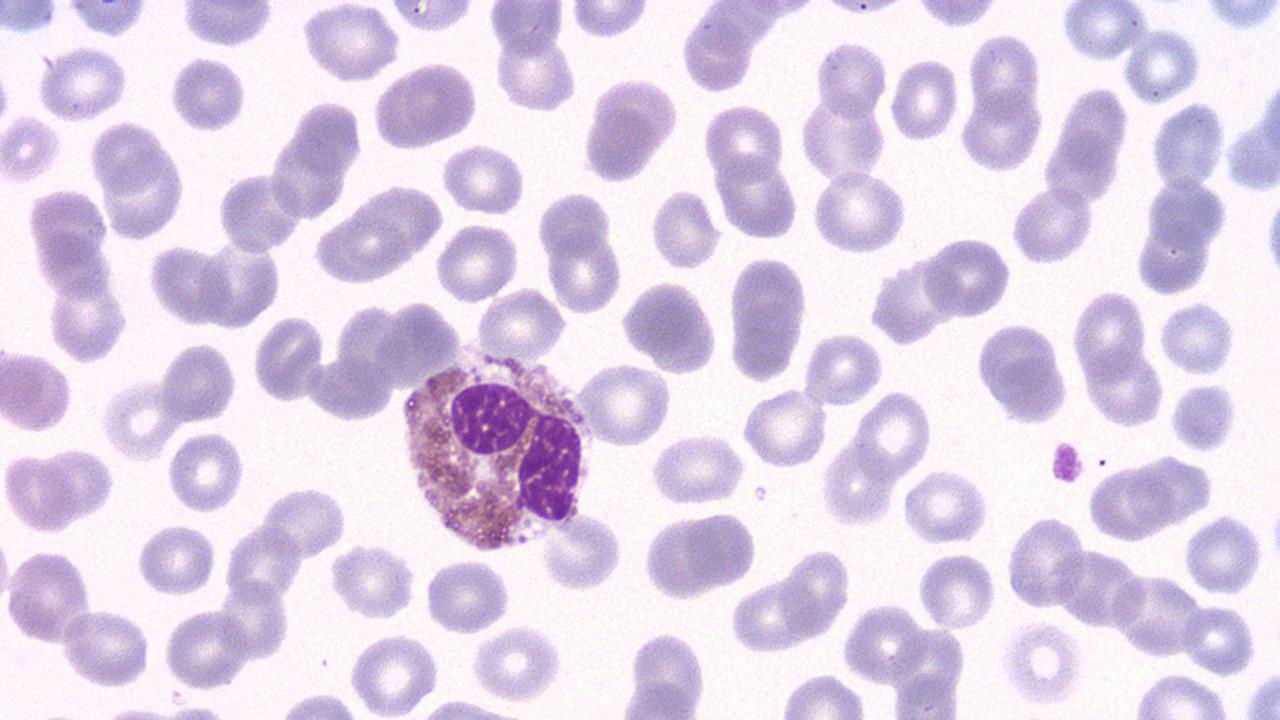Platelets: (1047, 437, 1085, 490)
RBC: (726, 254, 811, 384), (581, 73, 680, 184), (972, 321, 1072, 427), (974, 320, 1071, 428), (620, 274, 722, 375), (370, 62, 480, 152), (620, 274, 720, 371), (98, 141, 186, 242), (808, 169, 910, 256), (3, 548, 93, 646), (574, 360, 674, 448), (798, 91, 888, 187), (1005, 512, 1087, 613), (1110, 570, 1202, 660), (346, 630, 440, 716), (300, 3, 401, 83), (1000, 616, 1086, 709), (470, 622, 565, 706), (1057, 544, 1145, 632), (160, 605, 250, 691), (921, 235, 1013, 319), (728, 574, 822, 656), (854, 388, 934, 484), (202, 236, 283, 330), (1084, 463, 1178, 544), (58, 606, 152, 687), (1070, 287, 1150, 382), (1149, 97, 1227, 194), (46, 274, 129, 365), (648, 432, 749, 506), (148, 240, 231, 330), (34, 44, 129, 122), (216, 168, 302, 254), (700, 98, 786, 184), (641, 512, 721, 604), (492, 29, 577, 115), (1181, 511, 1265, 598), (738, 387, 826, 470), (1009, 183, 1095, 267), (433, 221, 520, 304), (327, 541, 416, 622), (819, 438, 897, 530), (900, 468, 992, 546), (714, 156, 798, 241), (956, 90, 1041, 174), (841, 600, 928, 682), (538, 512, 626, 592), (422, 556, 511, 635), (261, 482, 348, 562), (966, 30, 1042, 121), (221, 520, 303, 604), (268, 135, 348, 221), (165, 430, 245, 516), (545, 227, 623, 315), (778, 546, 850, 641), (158, 340, 240, 422), (1082, 348, 1164, 430), (99, 376, 177, 462), (252, 312, 324, 405), (2, 448, 78, 536), (1040, 128, 1122, 209), (439, 142, 528, 216), (477, 287, 567, 360), (916, 548, 996, 630), (217, 576, 291, 664), (2, 348, 76, 436), (888, 54, 960, 144), (1134, 218, 1214, 298), (1157, 298, 1237, 378), (814, 36, 889, 121), (39, 444, 115, 527), (168, 55, 248, 133), (134, 522, 216, 598), (802, 329, 882, 406), (649, 186, 722, 270), (1180, 600, 1258, 678), (679, 15, 755, 95), (1123, 27, 1201, 104), (1135, 452, 1215, 527), (87, 118, 164, 194), (688, 509, 758, 592), (32, 230, 114, 299), (536, 189, 614, 260), (1061, 1, 1145, 64), (1167, 381, 1239, 453), (1130, 670, 1232, 718), (177, 1, 278, 47), (486, 1, 566, 57), (1, 113, 60, 184), (777, 671, 868, 717), (616, 678, 702, 720), (890, 672, 963, 718), (568, 1, 652, 40), (1262, 178, 1280, 302)
WBC: (393, 340, 598, 554)
